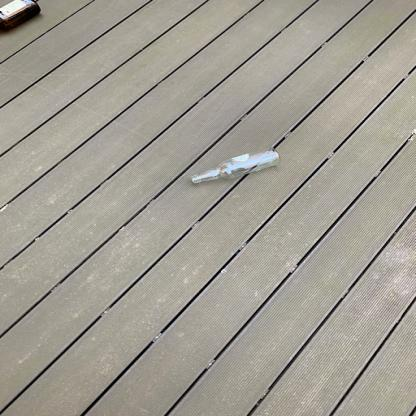trash: (184, 148, 286, 186), (0, 0, 43, 37)
